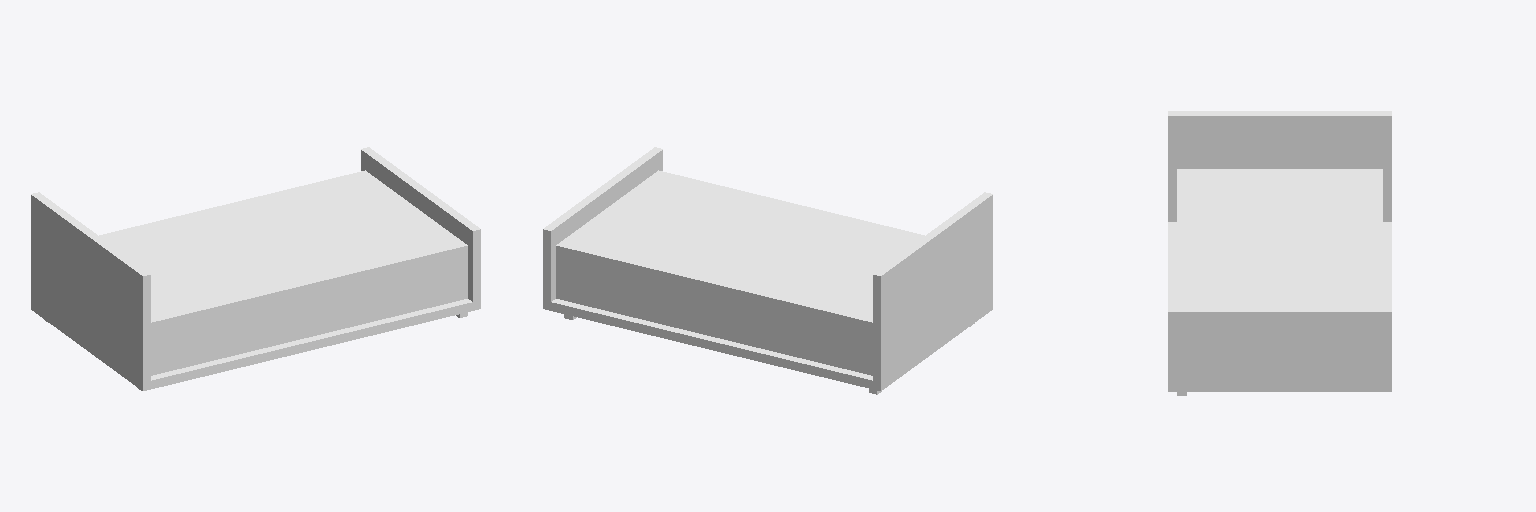
Rendered from bed_V1.obj.
3 views of the same model, side by side, from view 1: azimuth 30°, elevation 25°; view 2: azimuth 150°, elevation 25°; view 3: azimuth 270°, elevation 25° (orthographic).
Parts seen in each view (by area): view 1: bed_V1; view 2: bed_V1; view 3: bed_V1.
Boxes of the visible parts, x1,y1,x2,y2 form: bed_V1: [31, 147, 480, 390]; bed_V1: [543, 147, 992, 394]; bed_V1: [1168, 111, 1391, 395].
Size of the model in its own units: 40 by 14 by 23.